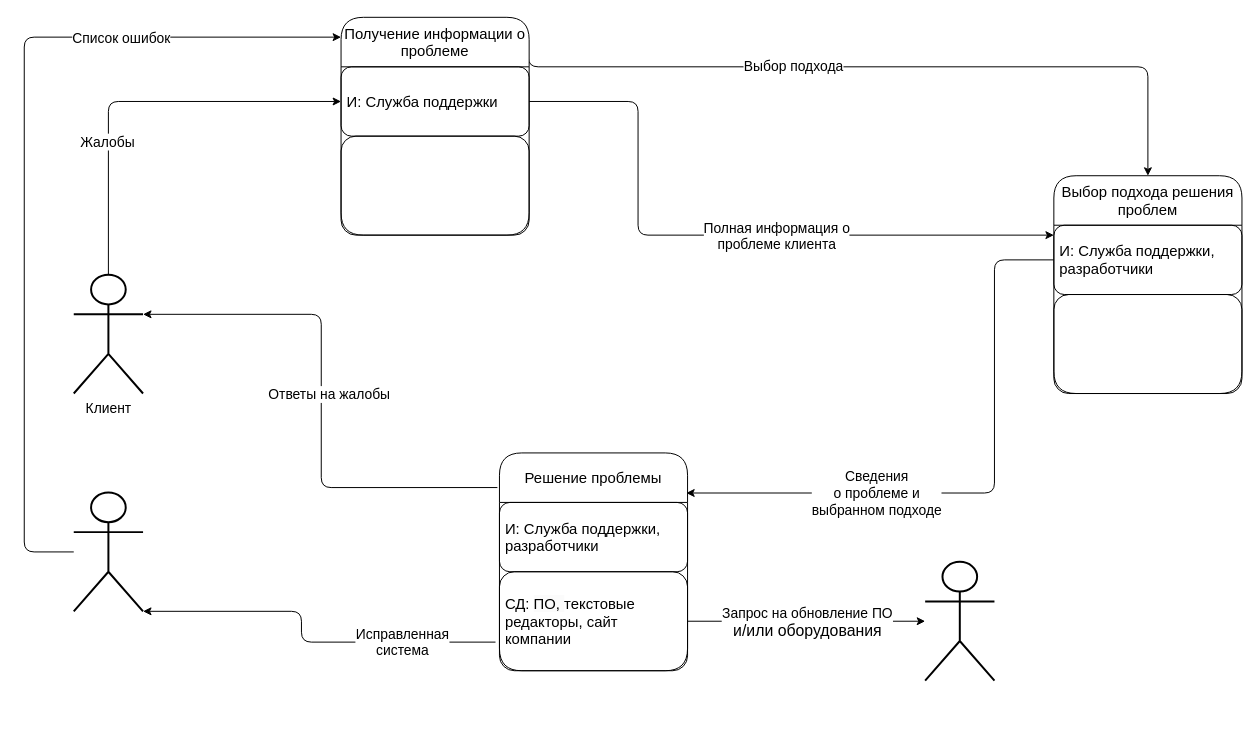
This 1259x741 diagram has some shape labels left out. Each missing label, with the centre of its shape:
"АСУТ" belongs at point 108,551.
"СД: методы и системы анализа, текстовые редакторы, сайт компании" belongs at point 1147,344.
"СД: текстовые редакторы, сайт компании" belongs at point 434,185.
"Технический отдел" belongs at point 959,620.
